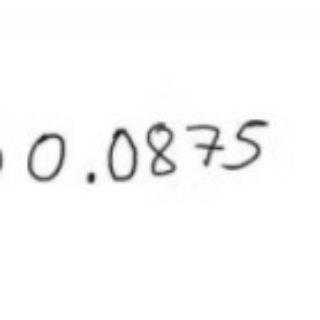.: (83, 166, 98, 187)
0: (105, 122, 140, 184), (26, 129, 67, 181)
5: (222, 116, 275, 174)
7: (184, 120, 224, 174)
8: (146, 121, 180, 179)
